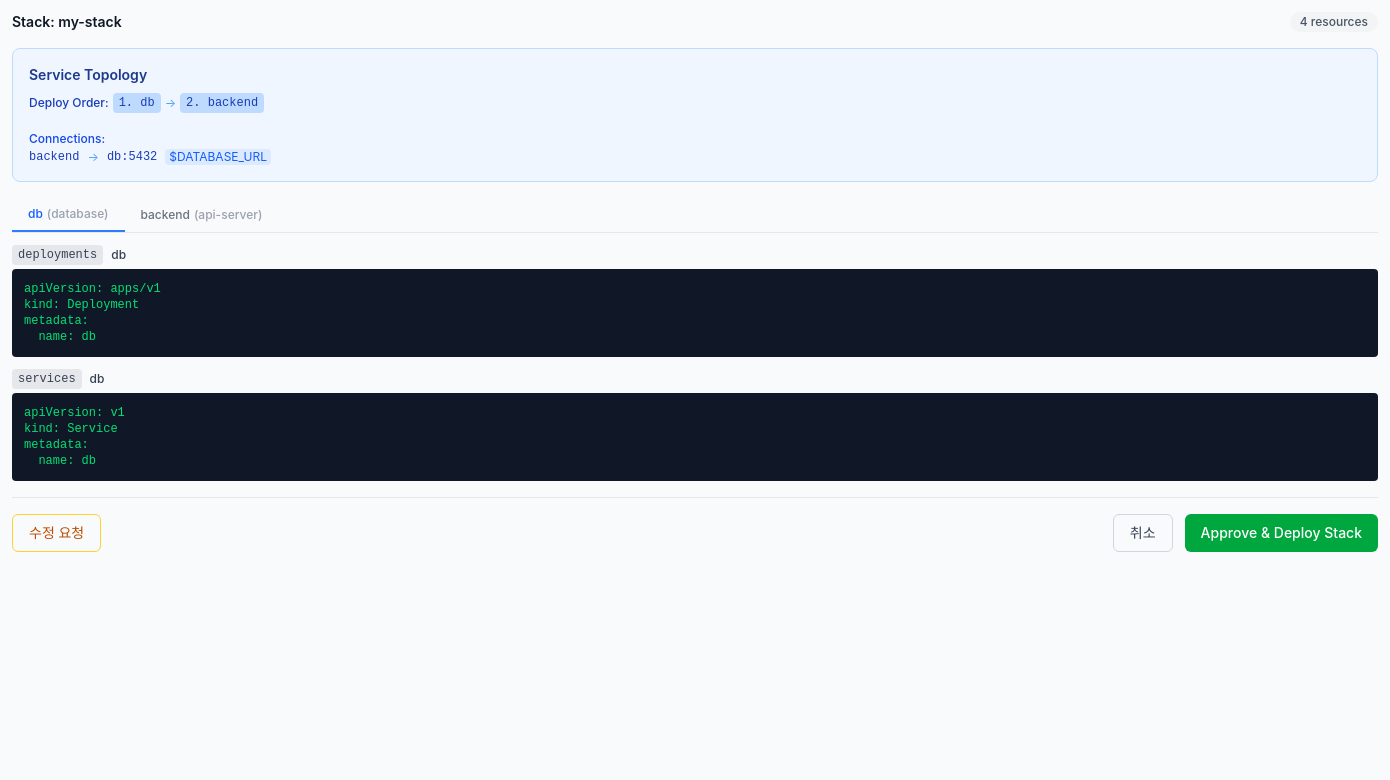
StackManifestPreview › switches manifest content when tab clicked
The image size is (1390, 780).
Check: the text "apiVersion: apps/v1 kind: Deployment metadata: name: db" is shown, box x1=12 y1=269 x2=1378 y2=357
# Click backend tab (find tab button that contains "backend" + "api-server")
Click the button "backend(api-server)": (201, 215) x1=124 y1=198 x2=278 y2=232
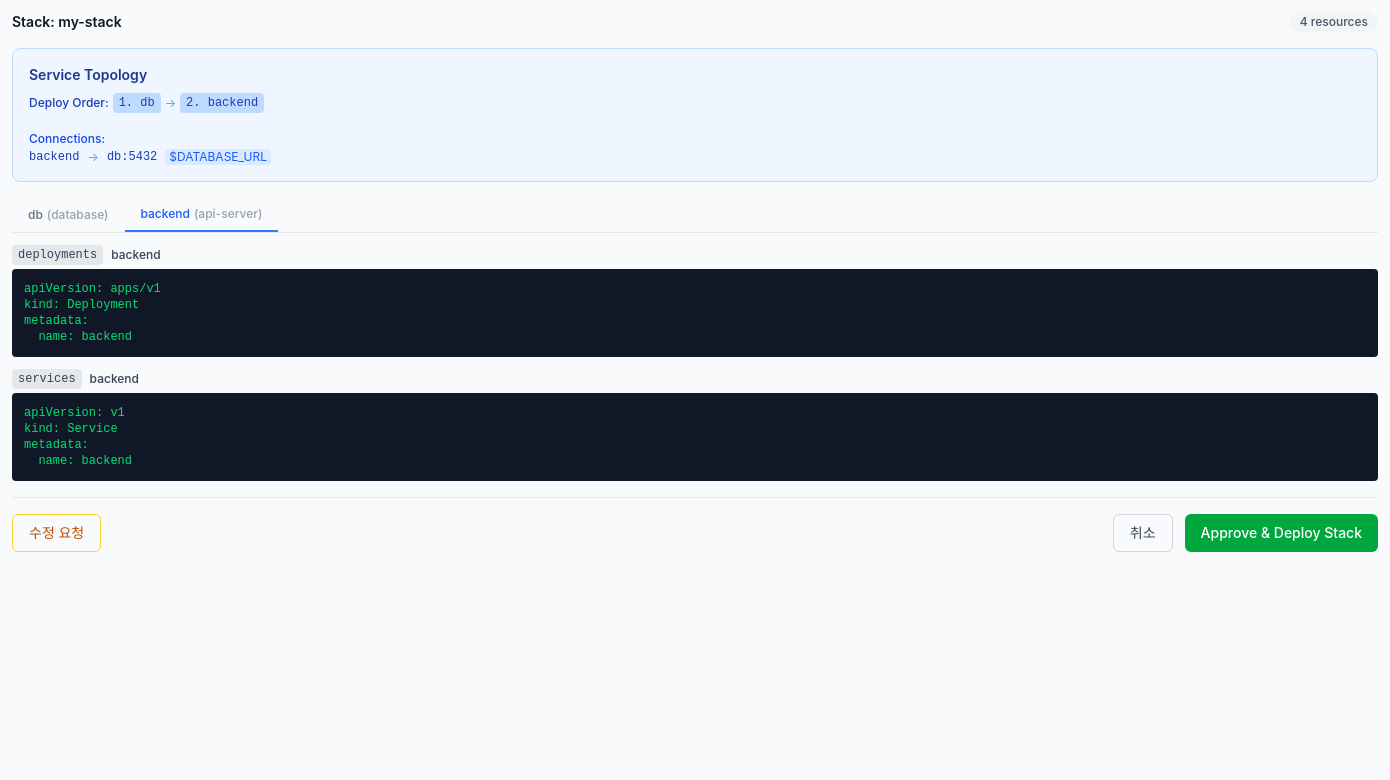
Check: the text "apiVersion: apps/v1 kind: Deployment metadata: name: backend" is shown, box x1=12 y1=269 x2=1378 y2=357
